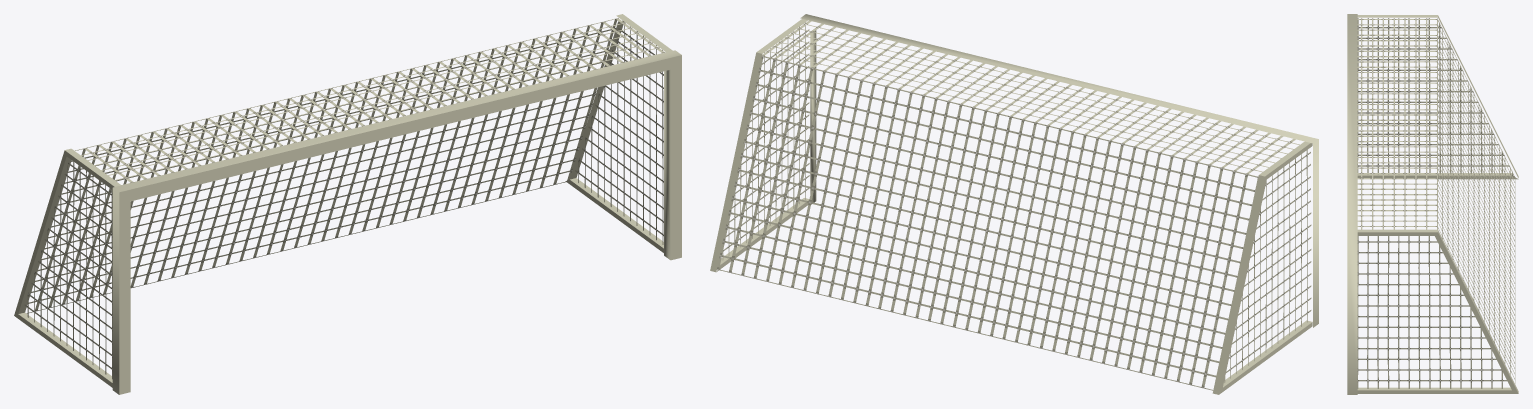
File: 01c4_Soccer_Goal.glb
3 renders of one model, left to right at view 1: azimuth 30°, elevation 25°; view 2: azimuth 150°, elevation 25°; view 3: azimuth 270°, elevation 25°, orthographic. The views are drawn at different scales.
Parts seen in each view (by area): view 1: part_0; view 2: part_0; view 3: part_0.
Boxes of the visible parts, x1,y1,x2,y2 form: part_0: [14, 14, 681, 394]; part_0: [710, 14, 1318, 394]; part_0: [1347, 14, 1518, 394].
Bounding box in the file's own units: 7.44 × 2.56 × 2.46.
Materials: 1 (1 with a texture image).
